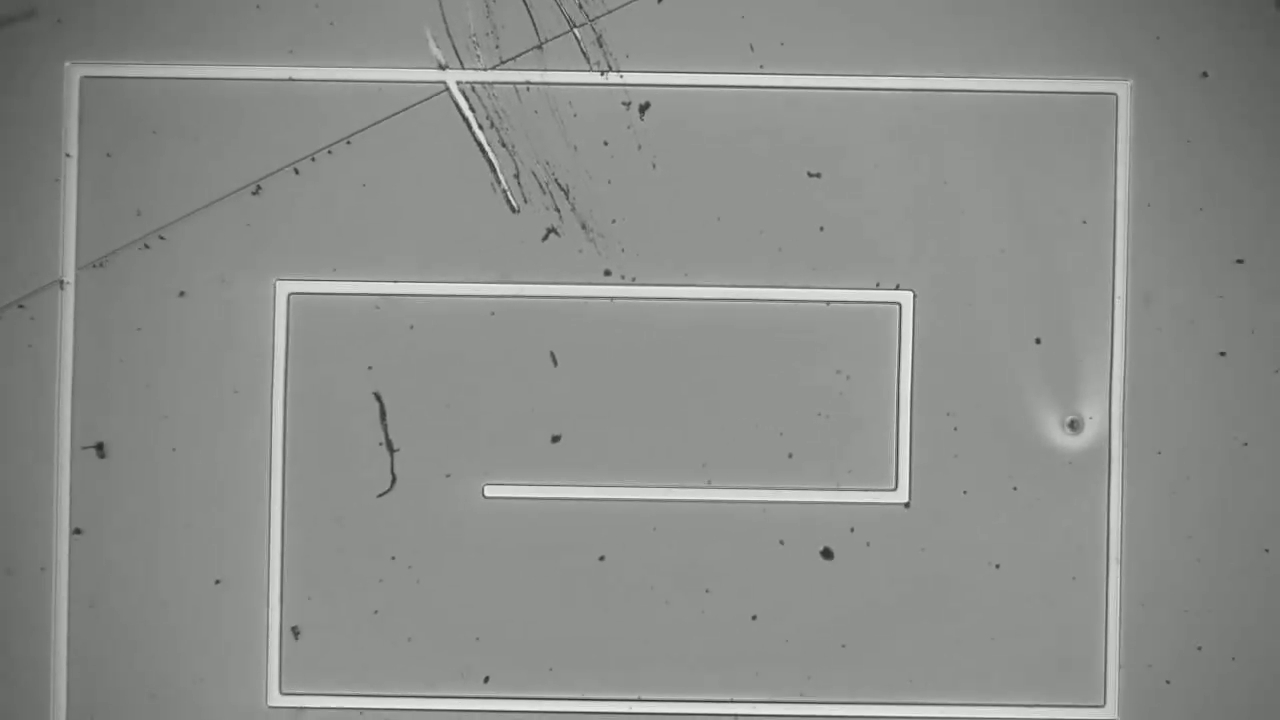scratch: (27, 1, 653, 298), (429, 33, 525, 204), (441, 5, 526, 190), (581, 10, 637, 91), (559, 6, 597, 78), (524, 5, 541, 54)
